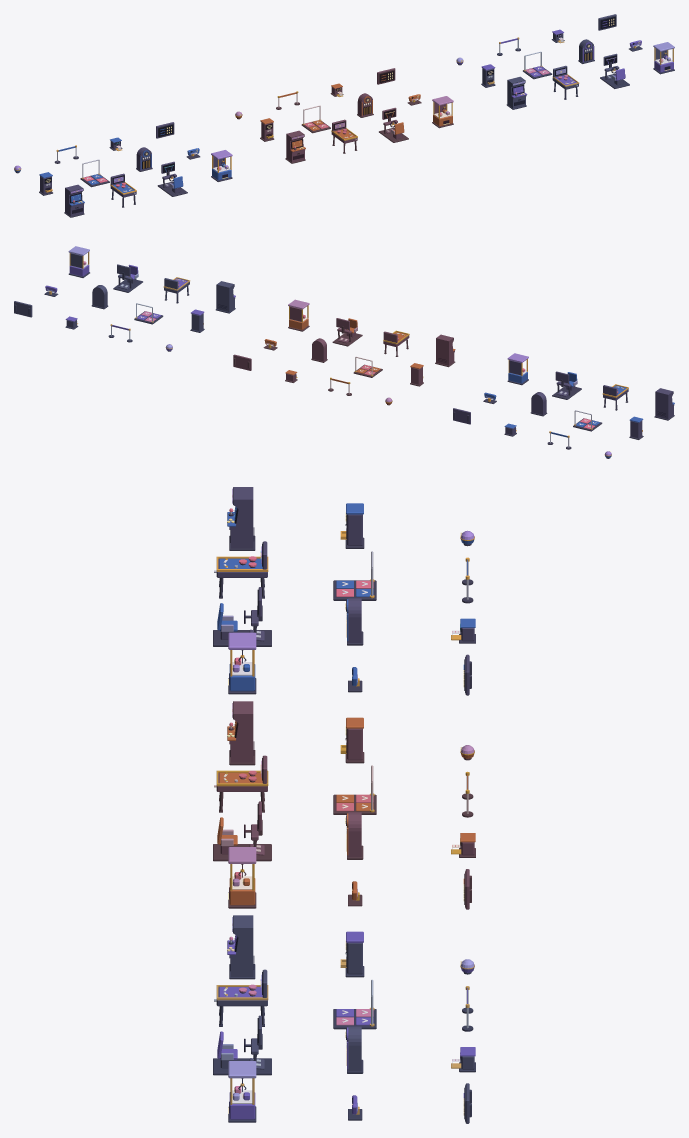
The model's file is starfall-arcade-native.glb.
3 views of the same model, one above another, from view 1: azimuth 30°, elevation 25°; view 2: azimuth 150°, elevation 25°; view 3: azimuth 270°, elevation 25° (orthographic). The views are drawn at different scales.
Parts seen in each view (by area): view 1: Twilight__03_Vector_Racing_Seat__Body, Warm__03_Vector_Racing_Seat__Body, Classic__03_Vector_Racing_Seat__Body, Twilight__01_Comet_Arcade_Cabinet__Body, Warm__01_Comet_Arcade_Cabinet__Body, Classic__01_Comet_Arcade_Cabinet__Body, Twilight__04_Prize_Crane_Machine__Body, Warm__04_Prize_Crane_Machine__Body, Classic__04_Prize_Crane_Machine__Body, Twilight__02_Orbit_Pinball_Table__Body, Warm__02_Orbit_Pinball_Table__Body, Classic__02_Orbit_Pinball_Table__Body (+6 smaller); view 2: Twilight__04_Prize_Crane_Machine__Body, Classic__03_Vector_Racing_Seat__Body, Classic__04_Prize_Crane_Machine__Body, Twilight__01_Comet_Arcade_Cabinet__Body, Twilight__03_Vector_Racing_Seat__Body, Classic__01_Comet_Arcade_Cabinet__Body, Warm__03_Vector_Racing_Seat__Body, Warm__04_Prize_Crane_Machine__Body, Warm__01_Comet_Arcade_Cabinet__Body, Twilight__02_Orbit_Pinball_Table__Body, Warm__02_Orbit_Pinball_Table__Body, Classic__02_Orbit_Pinball_Table__Body (+3 smaller); view 3: Twilight__01_Comet_Arcade_Cabinet__Body, Warm__01_Comet_Arcade_Cabinet__Body, Classic__01_Comet_Arcade_Cabinet__Body, Classic__04_Prize_Crane_Machine__Body, Twilight__04_Prize_Crane_Machine__Body, Warm__04_Prize_Crane_Machine__Body, Warm__02_Orbit_Pinball_Table__Body, Classic__02_Orbit_Pinball_Table__Body, Twilight__02_Orbit_Pinball_Table__Body, Warm__03_Vector_Racing_Seat__Body, Twilight__03_Vector_Racing_Seat__Body, Classic__03_Vector_Racing_Seat__Body (+3 smaller).
Boxes of the visible parts, <box> form: Twilight__03_Vector_Racing_Seat__Body: <box>600,53,629,88</box>; Warm__03_Vector_Racing_Seat__Body: <box>379,107,408,142</box>; Classic__03_Vector_Racing_Seat__Body: <box>157,161,187,196</box>; Twilight__01_Comet_Arcade_Cabinet__Body: <box>506,76,527,109</box>; Warm__01_Comet_Arcade_Cabinet__Body: <box>285,130,305,163</box>; Classic__01_Comet_Arcade_Cabinet__Body: <box>64,184,84,217</box>; Twilight__04_Prize_Crane_Machine__Body: <box>653,42,674,74</box>; Warm__04_Prize_Crane_Machine__Body: <box>432,96,453,128</box>; Classic__04_Prize_Crane_Machine__Body: <box>211,150,232,181</box>; Twilight__02_Orbit_Pinball_Table__Body: <box>552,65,579,99</box>; Warm__02_Orbit_Pinball_Table__Body: <box>331,119,357,153</box>; Classic__02_Orbit_Pinball_Table__Body: <box>110,173,136,207</box>; Twilight__04_Prize_Crane_Machine__Body: <box>68,246,89,277</box>; Classic__03_Vector_Racing_Seat__Body: <box>552,371,581,399</box>; Classic__04_Prize_Crane_Machine__Body: <box>507,353,528,385</box>; Twilight__01_Comet_Arcade_Cabinet__Body: <box>215,281,235,313</box>; Twilight__03_Vector_Racing_Seat__Body: <box>113,264,142,292</box>; Classic__01_Comet_Arcade_Cabinet__Body: <box>654,388,674,420</box>; Warm__03_Vector_Racing_Seat__Body: <box>332,318,362,346</box>; Warm__04_Prize_Crane_Machine__Body: <box>288,299,309,331</box>; Warm__01_Comet_Arcade_Cabinet__Body: <box>435,334,455,367</box>; Twilight__02_Orbit_Pinball_Table__Body: <box>163,277,190,303</box>; Warm__02_Orbit_Pinball_Table__Body: <box>383,330,409,356</box>; Classic__02_Orbit_Pinball_Table__Body: <box>602,384,628,410</box>; Twilight__01_Comet_Arcade_Cabinet__Body: <box>227,915,255,979</box>; Warm__01_Comet_Arcade_Cabinet__Body: <box>227,701,255,765</box>; Classic__01_Comet_Arcade_Cabinet__Body: <box>227,487,255,550</box>; Classic__04_Prize_Crane_Machine__Body: <box>228,632,256,694</box>; Twilight__04_Prize_Crane_Machine__Body: <box>228,1061,256,1122</box>; Warm__04_Prize_Crane_Machine__Body: <box>228,847,256,908</box>; Warm__02_Orbit_Pinball_Table__Body: <box>214,755,268,812</box>; Classic__02_Orbit_Pinball_Table__Body: <box>214,541,268,598</box>; Twilight__02_Orbit_Pinball_Table__Body: <box>214,969,268,1026</box>; Warm__03_Vector_Racing_Seat__Body: <box>213,801,271,861</box>; Twilight__03_Vector_Racing_Seat__Body: <box>213,1015,271,1075</box>; Classic__03_Vector_Racing_Seat__Body: <box>213,587,271,646</box>.
Size of the model in its own units: 98.61 by 4.01 by 18.7.
Materials: 3 (3 with a texture image).
